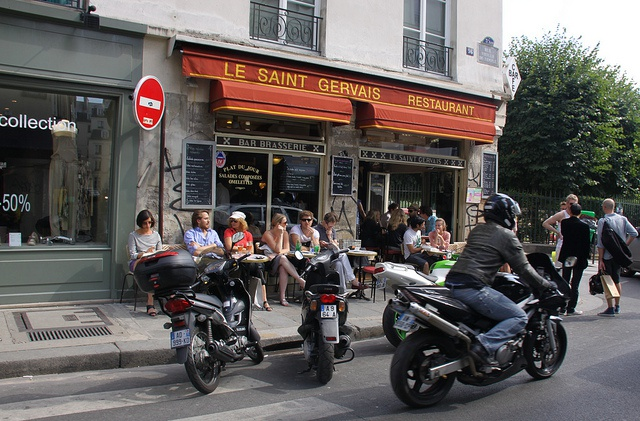non-vehicle: (390, 253, 574, 410), (132, 229, 265, 394), (295, 252, 355, 387), (372, 259, 457, 343)
